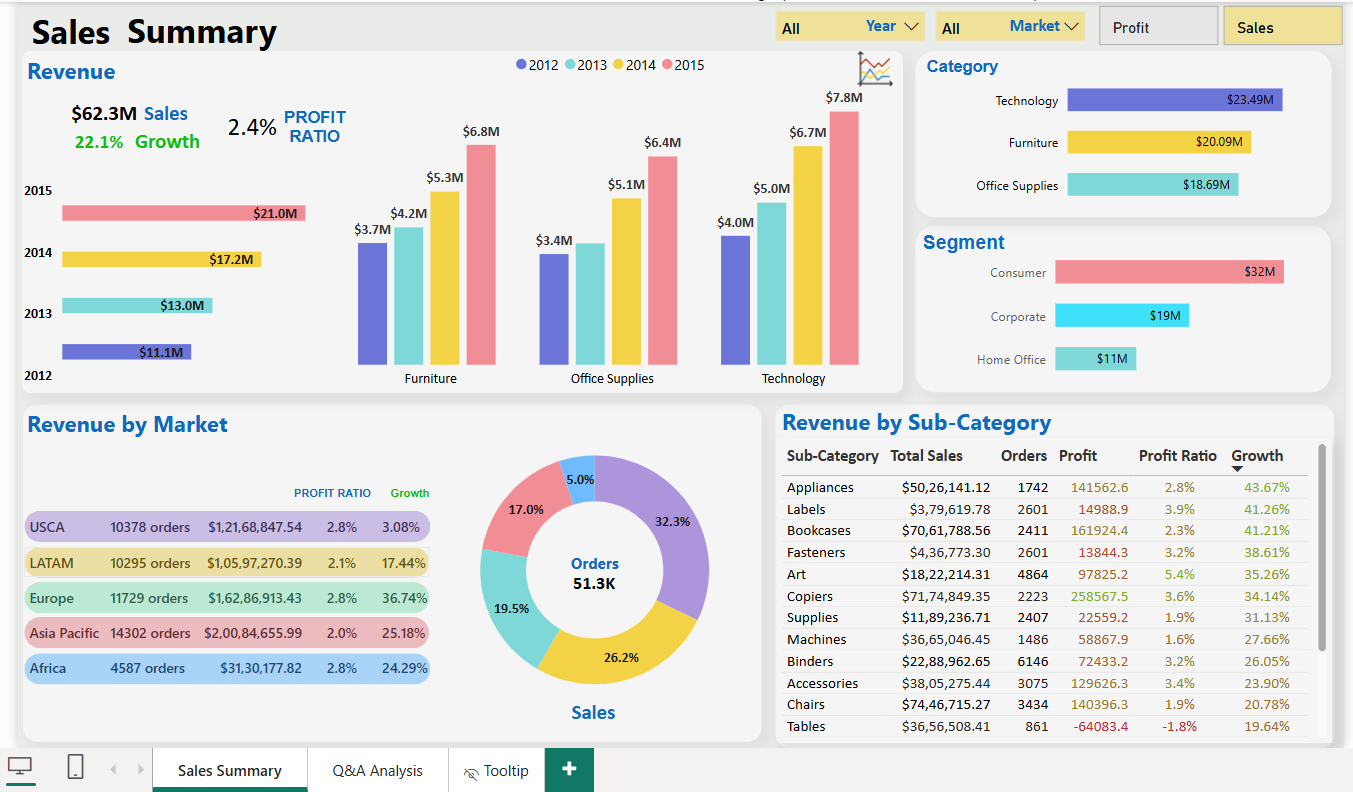

The dashboard page shown, as its layout file describes it:
{"tool":"powerbi","page":{"name":"Sales Summary","canvas":[1280,720],"ordinal":0},"visuals":[{"type":"card","title":"Card_Title","fields":{"Values":["Min(Parameter.Parameter)"]},"box":[0,0,102.5,56.7],"z":0,"group":"g8"},{"type":"advancedSlicerVisual","fields":{"Values":["Parameter.Parameter"]},"box":[1043.5,3.6,236.5,38.6],"z":0,"group":"g7"},{"type":"shape","box":[3.6,47.1,850.5,330.6],"z":0,"group":"g4"},{"type":"shape","title":"Shape_category","box":[866.3,47.1,401.7,160.5],"z":0,"group":"g6"},{"type":"shape","title":"Shape_Segment","box":[866.3,216,400.5,160.5],"z":0,"group":"g5"},{"type":"shape","title":"Shape_Subcategory","box":[731.1,388.5,539.3,331.8],"z":0,"group":"g2"},{"type":"textbox","title":"Text box_Title","box":[12.1,0,301.6,59.1],"z":1000,"group":"g8"},{"type":"slicer","title":"Slicer_Market","fields":{"Values":["Orders.Market"]},"box":[880.7,3.6,154.4,47.1],"z":1000,"group":"g7"},{"type":"clusteredBarChart","title":"BarChart_Category","fields":{"Y":["Orders.Total Sales"],"Category":["Orders.Category"]},"box":[913.3,54.3,366.8,156.8],"z":1000,"group":"g6"},{"type":"clusteredBarChart","fields":{"Y":["Orders.Total Sales"],"Series":["Date Table.Year"],"Category":["Date Table.Year"]},"box":[0,145.1,340.2,252.1],"z":1000,"group":"g4"},{"type":"barChart","title":"BarChart_Segment","fields":{"Y":["Orders.Total Sales"],"Category":["Orders.Segment"]},"box":[913.9,219.6,366.4,160.5],"z":1000,"group":"g5"},{"type":"shape","title":"Shape_Market","box":[4.8,388.4,713,325.7],"z":1000,"group":"g3"},{"type":"tableEx","title":"Table_Subcategory","fields":{"Values":["Orders.Sub-Category","Orders.Total Sales","Orders.Total Orders","Orders.Total Profit","Orders.Profit Ratio","Orders.M_Sales YOY%"]},"box":[731.1,421.1,536.9,294.4],"z":1000,"group":"g2"},{"type":"tableEx","title":"Table_Market","fields":{"Values":["Orders.Market","Orders.Orders","Orders.Total Sales","Orders.Profit Ratio","Orders.M_Sales YOY%"]},"box":[0,452.4,447.6,223.2],"z":1250,"group":"g3"},{"type":"shape","box":[6,628.5,392.1,30.2],"z":1500,"group":"g1"},{"type":"group","id":"g1","title":"Shapes_Table_Market","box":[6,491,392.1,167.7],"z":1625,"group":"g3"},{"type":"shape","box":[6,594.1,390.9,30.2],"z":1750,"group":"g1"},{"type":"card","title":"Card_Market","fields":{"Values":["Min(Parameter.Parameter)"]},"box":[504.3,657.5,102.5,56.7],"z":1812,"group":"g3"},{"type":"shape","box":[6,559.7,390.9,30.2],"z":1875,"group":"g1"},{"type":"shape","box":[6,525.4,390.9,30],"z":1937,"group":"g1"},{"type":"shape","box":[6,491,392.1,30.2],"z":1968,"group":"g1"},{"type":"slicer","title":"Slicer_Year","fields":{"Values":["Date Table.Year"]},"box":[726.3,3.6,154.4,39.8],"z":2000,"group":"g7"},{"type":"clusteredColumnChart","title":"Bar","fields":{"Y":["Orders.Total Sales"],"Category":["Orders.Category"],"Series":["Date Table.Year"]},"box":[253.4,40.1,640.6,340.2],"z":2000,"group":"g4"},{"type":"textbox","title":"Text box_Category","box":[855.4,48.3,112.2,50.7],"z":2000,"group":"g6"},{"type":"textbox","title":"Text box_Segment","box":[856.6,217.2,112.2,50.7],"z":2000,"group":"g5"},{"type":"donutChart","title":"DonutChart_Market","fields":{"Y":["Orders.Total Sales"],"Category":["Orders.Market"]},"box":[364.3,382.4,384.9,331.8],"z":2000,"group":"g3"},{"type":"textbox","title":"Text box_Sub-Category","box":[732.3,384.9,330.6,49.5],"z":2000,"group":"g2"},{"type":"textbox","title":"Text box_Slicer_Year","box":[794.5,8.3,77.9,32],"z":3000,"group":"g7"},{"type":"textbox","box":[68.8,117,150.8,39.8],"z":3000,"group":"g4"},{"type":"group","id":"g2","title":"Sub-Category","box":[731.1,384.9,539.3,335.4],"z":3000},{"type":"card","title":"Card_TotalOrders","fields":{"Values":["Orders.Total Orders"]},"box":[501.9,539.2,108.6,45.8],"z":3000,"group":"g3"},{"type":"card","fields":{"Values":["Orders.Profit Ratio"]},"box":[185.8,100.1,80.8,41],"z":3500,"group":"g4"},{"type":"group","id":"g3","title":"Market","box":[0,382.4,749.2,331.8],"z":3500},{"type":"textbox","title":"Text box_Slicer_Market","box":[941.9,8.3,77.9,32],"z":4000,"group":"g7"},{"type":"card","fields":{"Values":["Orders.Total Sales"]},"box":[29,79.9,108.6,57],"z":4000,"group":"g4"},{"type":"textbox","title":"Text box_Orders","box":[528.4,526,91.7,42.2],"z":4000,"group":"g3"},{"type":"textbox","title":"Text box_Growth","box":[302.8,458.4,150.8,39.8],"z":4750,"group":"g3"},{"type":"group","id":"g4","title":"Revenue","box":[0,40.1,894,357.1],"z":5000},{"type":"card","fields":{"Values":["Orders.M_Sales YOY%"]},"box":[4.8,114.6,147.2,42.2],"z":6000,"group":"g4"},{"type":"textbox","title":"Text box_ProfitRatio","box":[247.3,458.4,112.2,35],"z":6000,"group":"g3"},{"type":"textbox","box":[229.2,97.4,113.9,50.8],"z":6500,"group":"g4"},{"type":"textbox","title":"Text box_Market","box":[3.6,387.2,289.5,49.5],"z":6500,"group":"g3"},{"type":"actionButton","box":[797.5,44.2,60.3,42.2],"z":7000,"group":"g4"},{"type":"textbox","box":[3.6,46.1,184.6,49.5],"z":9000,"group":"g4"},{"type":"card","fields":{"Values":["Min(Parameter.Parameter)"]},"box":[91.7,79.9,102.5,56.7],"z":10000,"group":"g4"},{"type":"group","id":"g5","title":"Segment","box":[856.6,216,423.7,164.2],"z":16000},{"type":"group","id":"g6","title":"Category","box":[855.4,47.1,424.6,164.1],"z":17000},{"type":"group","id":"g7","title":"Slicers","box":[726.3,3.6,553.7,47.1],"z":18000},{"type":"group","id":"g8","title":"Title","box":[0,0,313.7,59.1],"z":19000}]}

Visuals, with their boxes on the page's 1280x720 design canvas (x1, y1, x2, y2). These are canvas units, not pixel positions in the 1353x792 screenshot, which may show the page scaled, cropped or inside an application window:
"Card_Title" card: bbox=[0, 0, 102, 57]
advancedSlicerVisual - Parameter.Parameter: bbox=[1044, 4, 1280, 42]
shape: bbox=[4, 47, 854, 378]
"Shape_category" shape: bbox=[866, 47, 1268, 208]
"Shape_Segment" shape: bbox=[866, 216, 1267, 376]
"Shape_Subcategory" shape: bbox=[731, 388, 1270, 720]
"Text box_Title" textbox: bbox=[12, 0, 314, 59]
"Slicer_Market" slicer: bbox=[881, 4, 1035, 51]
"BarChart_Category" clusteredBarChart: bbox=[913, 54, 1280, 211]
clusteredBarChart - Orders.Total Sales x Date Table.Year: bbox=[0, 145, 340, 397]
"BarChart_Segment" barChart: bbox=[914, 220, 1280, 380]
"Shape_Market" shape: bbox=[5, 388, 718, 714]
"Table_Subcategory" tableEx: bbox=[731, 421, 1268, 716]
"Table_Market" tableEx: bbox=[0, 452, 448, 676]
shape: bbox=[6, 628, 398, 659]
"Shapes_Table_Market" group: bbox=[6, 491, 398, 659]
shape: bbox=[6, 594, 397, 624]
"Card_Market" card: bbox=[504, 658, 607, 714]
shape: bbox=[6, 560, 397, 590]
shape: bbox=[6, 525, 397, 555]
shape: bbox=[6, 491, 398, 521]
"Slicer_Year" slicer: bbox=[726, 4, 881, 43]
"Bar" clusteredColumnChart: bbox=[253, 40, 894, 380]
"Text box_Category" textbox: bbox=[855, 48, 968, 99]
"Text box_Segment" textbox: bbox=[857, 217, 969, 268]
"DonutChart_Market" donutChart: bbox=[364, 382, 749, 714]
"Text box_Sub-Category" textbox: bbox=[732, 385, 1063, 434]
"Text box_Slicer_Year" textbox: bbox=[794, 8, 872, 40]
textbox: bbox=[69, 117, 220, 157]
"Sub-Category" group: bbox=[731, 385, 1270, 720]
"Card_TotalOrders" card: bbox=[502, 539, 610, 585]
card - Orders.Profit Ratio: bbox=[186, 100, 267, 141]
"Market" group: bbox=[0, 382, 749, 714]
"Text box_Slicer_Market" textbox: bbox=[942, 8, 1020, 40]
card - Orders.Total Sales: bbox=[29, 80, 138, 137]
"Text box_Orders" textbox: bbox=[528, 526, 620, 568]
"Text box_Growth" textbox: bbox=[303, 458, 454, 498]
"Revenue" group: bbox=[0, 40, 894, 397]
card - Orders.M_Sales YOY%: bbox=[5, 115, 152, 157]
"Text box_ProfitRatio" textbox: bbox=[247, 458, 360, 493]
textbox: bbox=[229, 97, 343, 148]
"Text box_Market" textbox: bbox=[4, 387, 293, 437]
actionButton: bbox=[798, 44, 858, 86]
textbox: bbox=[4, 46, 188, 96]
card - Min(Parameter.Parameter): bbox=[92, 80, 194, 137]
"Segment" group: bbox=[857, 216, 1280, 380]
"Category" group: bbox=[855, 47, 1280, 211]
"Slicers" group: bbox=[726, 4, 1280, 51]
"Title" group: bbox=[0, 0, 314, 59]
